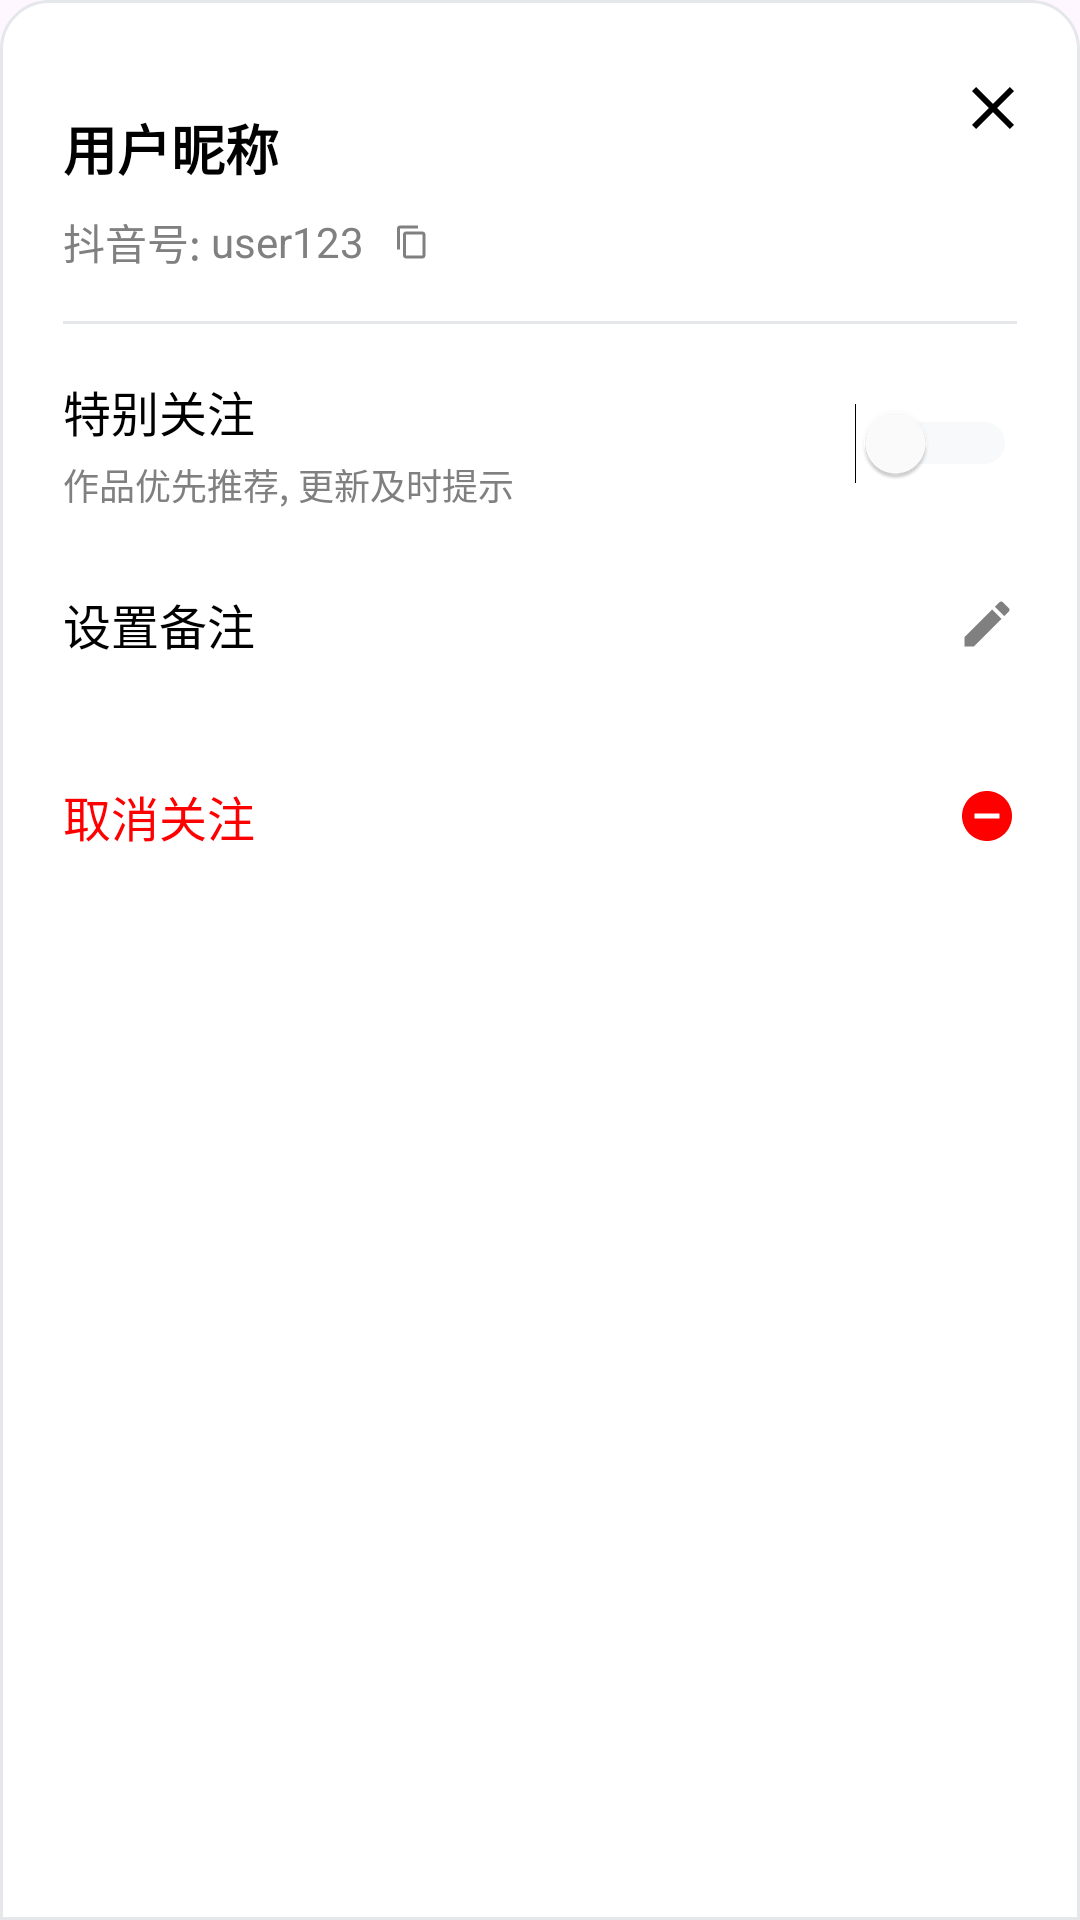

Screen size 1080w x 1920h. Icon name, then its center in pixels as (x,y):
关闭: (993,108)
复制: (411,242)
编辑: (987,624)
